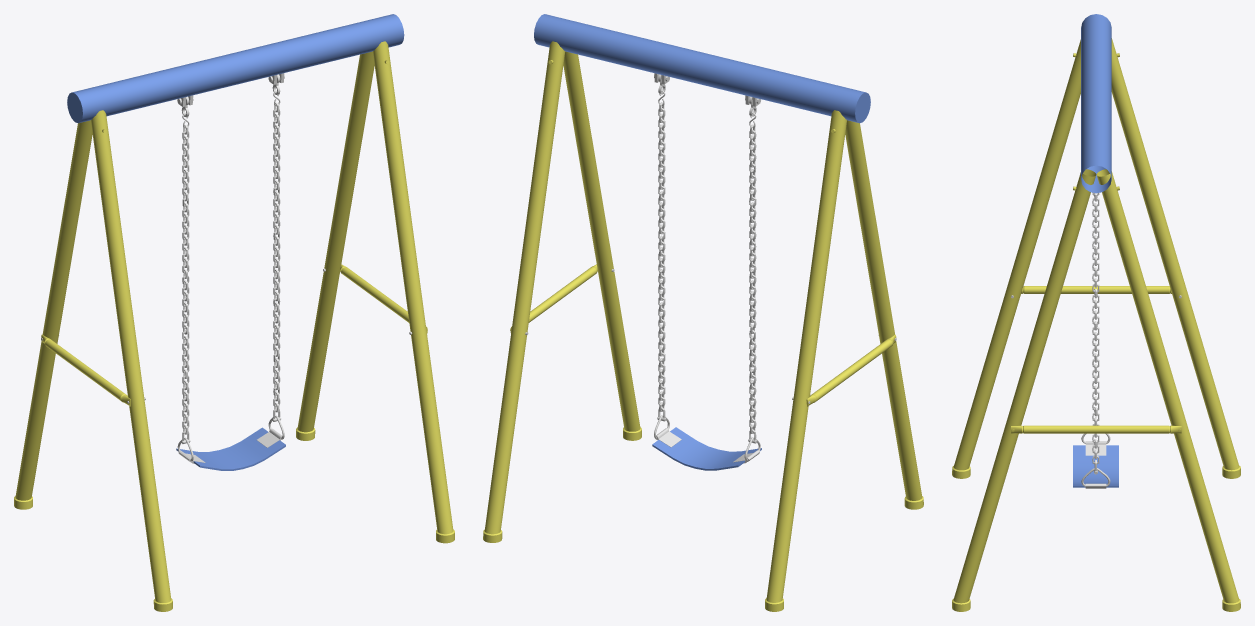
The model's file is SM_Swing.fbx.
The picture shows the model from 3 angles, left to right: view 1: azimuth 30°, elevation 25°; view 2: azimuth 150°, elevation 25°; view 3: azimuth 270°, elevation 25°; orthographic projection. The views are drawn at different scales.
Visible parts, largest first — view 1: Frame Top Bar.002; view 2: Frame Top Bar.002; view 3: Frame Top Bar.002.
Part boxes in pixels (x1,y1,x2,y2): Frame Top Bar.002: (14,14,454,611); Frame Top Bar.002: (483,14,923,611); Frame Top Bar.002: (952,14,1240,611).
Size of the model in its own units: 501 by 698 by 404.
